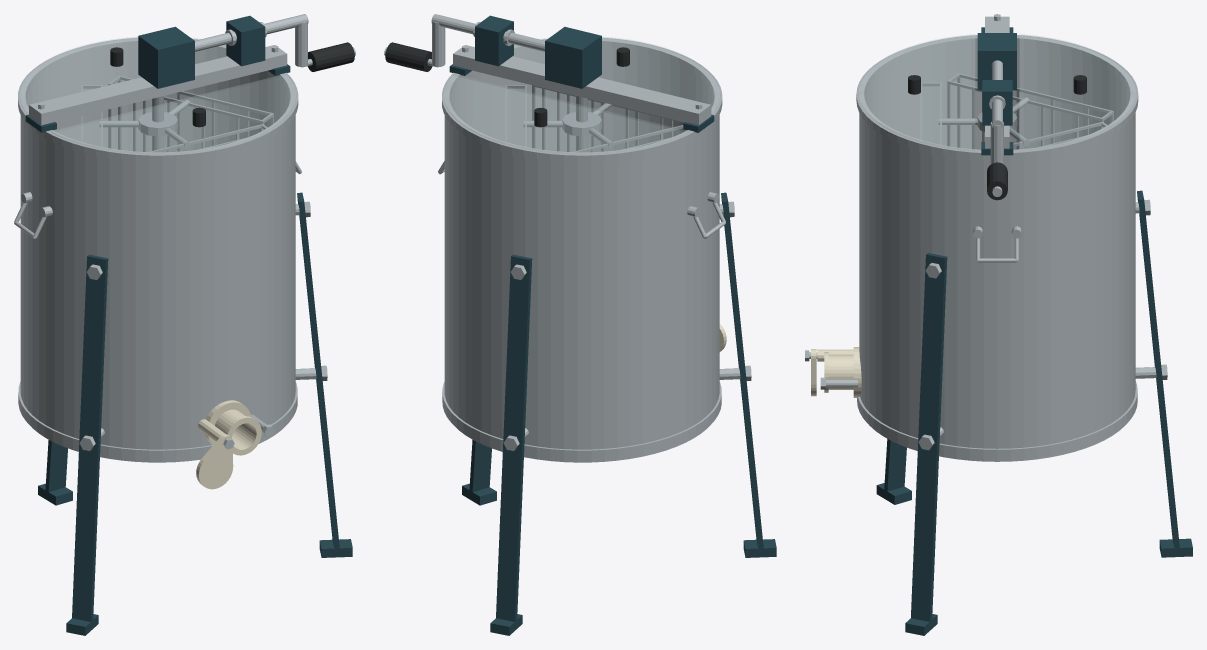
File: NEW447_honey_extractor_LOD1.glb
3 renders of one model, left to right at view 1: azimuth 30°, elevation 25°; view 2: azimuth 150°, elevation 25°; view 3: azimuth 270°, elevation 25°, orthographic.
Parts seen in each view (by area): view 1: Vessel_complete_shell, Removable_cover_front, Leg_0, Removable_cover_rear, Bridge_crossbar, Enclosed_drive_head_INFERRED, Leg_1, Carrier_0_complete, Horizontal_shaft_pedestal, Open_swing_gate_plate_complete, Crank_grip, Leg_2 (+8 smaller); view 2: Vessel_complete_shell, Removable_cover_rear, Leg_2, Removable_cover_front, Bridge_crossbar, Enclosed_drive_head_INFERRED, Leg_0, Horizontal_shaft_pedestal, Carrier_2_complete, Crank_grip, Leg_1, Horizontal_drive_shaft (+4 smaller); view 3: Vessel_complete_shell, Removable_cover_front, Removable_cover_rear, Leg_1, Leg_2, Carrier_1_complete, Enclosed_drive_head_INFERRED, Horizontal_shaft_pedestal, Leg_0, Gate_through_sleeve, Bridge_crossbar, Crank_grip (+2 smaller).
Boxes of the visible parts, x1=… form: Vessel_complete_shell: x1=18, y1=37, x2=298, y2=462; Removable_cover_front: x1=51, y1=74, x2=295, y2=154; Leg_0: x1=72, y1=254, x2=108, y2=622; Removable_cover_rear: x1=20, y1=37, x2=226, y2=114; Bridge_crossbar: x1=29, y1=45, x2=287, y2=125; Enclosed_drive_head_INFERRED: x1=138, y1=26, x2=194, y2=88; Leg_1: x1=297, y1=192, x2=339, y2=549; Carrier_0_complete: x1=108, y1=75, x2=273, y2=151; Horizontal_shaft_pedestal: x1=226, y1=15, x2=265, y2=66; Open_swing_gate_plate_complete: x1=196, y1=434, x2=233, y2=489; Crank_grip: x1=308, y1=42, x2=354, y2=71; Leg_2: x1=45, y1=440, x2=67, y2=492; Vessel_complete_shell: x1=442, y1=37, x2=722, y2=462; Removable_cover_rear: x1=444, y1=74, x2=688, y2=153; Leg_2: x1=496, y1=254, x2=532, y2=621; Removable_cover_front: x1=513, y1=37, x2=719, y2=114; Bridge_crossbar: x1=453, y1=45, x2=711, y2=125; Enclosed_drive_head_INFERRED: x1=545, y1=26, x2=601, y2=88; Leg_0: x1=721, y1=192, x2=763, y2=549; Horizontal_shaft_pedestal: x1=475, y1=15, x2=513, y2=66; Carrier_2_complete: x1=532, y1=85, x2=683, y2=151; Crank_grip: x1=385, y1=42, x2=432, y2=71; Leg_1: x1=469, y1=440, x2=491, y2=493; Horizontal_drive_shaft: x1=431, y1=14, x2=544, y2=51; Vessel_complete_shell: x1=856, y1=35, x2=1138, y2=461; Removable_cover_front: x1=859, y1=34, x2=974, y2=150; Removable_cover_rear: x1=1020, y1=34, x2=1135, y2=150; Leg_1: x1=911, y1=253, x2=947, y2=622; Leg_2: x1=1137, y1=190, x2=1179, y2=548; Carrier_1_complete: x1=947, y1=73, x2=1113, y2=149; Enclosed_drive_head_INFERRED: x1=977, y1=33, x2=1016, y2=90; Horizontal_shaft_pedestal: x1=982, y1=80, x2=1012, y2=125; Leg_0: x1=884, y1=439, x2=906, y2=492; Gate_through_sleeve: x1=828, y1=354, x2=853, y2=389; Bridge_crossbar: x1=985, y1=16, x2=1009, y2=148; Crank_grip: x1=987, y1=162, x2=1007, y2=200.
Size of the model in its own units: 0.7105 by 1.04 by 0.7018.
